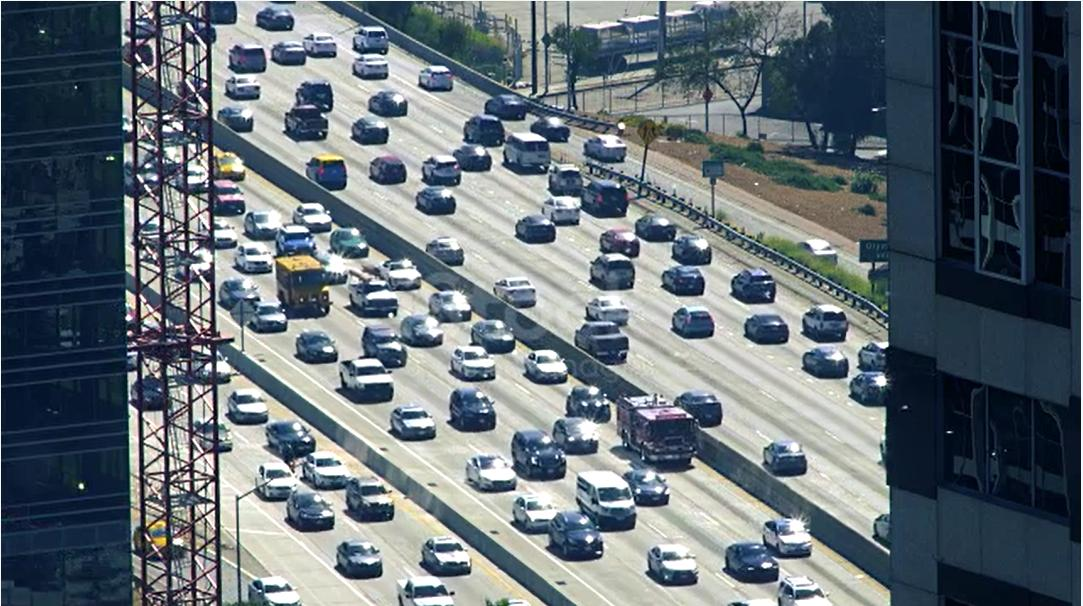bus: (270, 248, 334, 315)
car: (571, 463, 646, 528), (752, 506, 826, 566), (544, 504, 607, 566), (568, 317, 640, 371), (344, 468, 408, 524), (725, 529, 783, 589), (618, 466, 685, 515), (334, 354, 395, 407), (645, 538, 705, 589), (382, 400, 444, 449), (304, 443, 363, 494), (415, 535, 482, 579), (288, 482, 336, 543), (794, 299, 857, 345), (513, 428, 566, 482), (447, 340, 503, 391), (450, 387, 499, 443), (259, 415, 322, 457), (760, 435, 816, 482), (668, 384, 725, 428), (743, 313, 800, 357), (335, 532, 385, 582), (224, 381, 273, 430), (511, 489, 559, 539), (519, 345, 572, 390), (581, 178, 639, 219), (502, 125, 551, 173), (494, 271, 545, 317), (463, 448, 515, 493), (581, 255, 646, 291), (410, 52, 462, 97), (428, 281, 474, 331), (558, 378, 605, 426), (358, 324, 407, 370), (855, 355, 891, 416), (190, 414, 237, 460), (673, 300, 721, 345), (581, 291, 637, 329), (292, 329, 343, 370), (580, 126, 638, 162), (305, 151, 352, 195), (447, 141, 501, 179), (464, 320, 519, 357), (351, 275, 399, 317), (228, 35, 271, 81), (801, 344, 852, 382), (660, 263, 713, 299), (729, 269, 786, 302), (272, 223, 319, 263), (597, 227, 657, 258), (627, 210, 680, 245), (290, 199, 339, 236), (551, 409, 591, 454), (538, 194, 589, 229), (417, 150, 466, 186), (205, 174, 248, 215), (362, 92, 424, 120), (400, 311, 443, 349), (509, 213, 557, 247), (410, 185, 466, 214), (210, 107, 264, 137), (218, 273, 257, 314), (379, 254, 420, 293), (371, 153, 413, 191), (333, 220, 372, 260), (461, 111, 502, 149), (255, 5, 306, 35), (289, 80, 338, 111), (203, 213, 240, 254), (249, 302, 291, 338), (430, 230, 465, 273), (672, 233, 715, 268), (258, 455, 289, 503), (345, 22, 395, 51), (242, 204, 282, 239), (268, 35, 313, 66), (281, 103, 323, 136), (547, 158, 583, 196), (219, 76, 267, 104), (533, 110, 568, 146), (483, 89, 523, 120), (236, 241, 267, 278), (351, 52, 390, 81), (299, 26, 337, 55), (347, 117, 385, 142)
truck: (609, 386, 708, 469)
